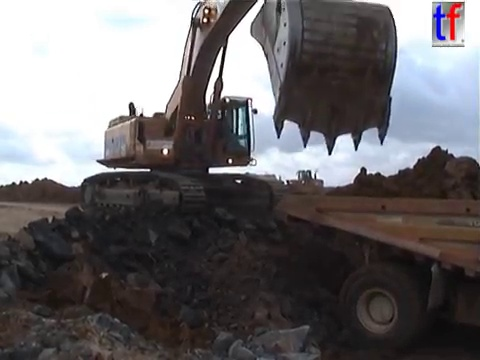excavator: (77, 1, 401, 227)
truck: (270, 182, 480, 360)
wheel loader: (276, 168, 325, 193)
